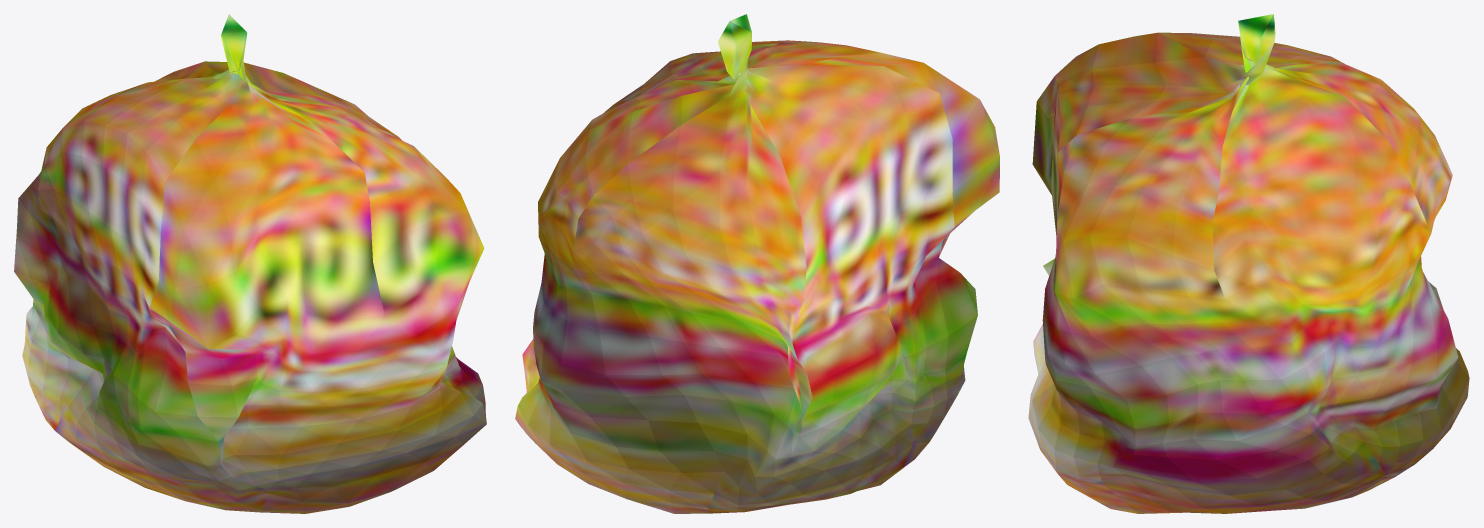
File: big_juicy_hamburger.gltf
3 renders of one model, left to right at view 1: azimuth 30°, elevation 25°; view 2: azimuth 150°, elevation 25°; view 3: azimuth 270°, elevation 25°, orthographic. The views are drawn at different scales.
Parts seen in each view (by area): view 1: pMesh1; view 2: pMesh1; view 3: pMesh1.
Boxes of the visible parts, left/top/right/bottom form: pMesh1: left=14, top=14, right=486, bottom=513; pMesh1: left=515, top=14, right=999, bottom=513; pMesh1: left=1028, top=14, right=1469, bottom=513.
Bounding box in the file's own units: 2.18 × 2.51 × 2.25.
1 material, 1 textured.
